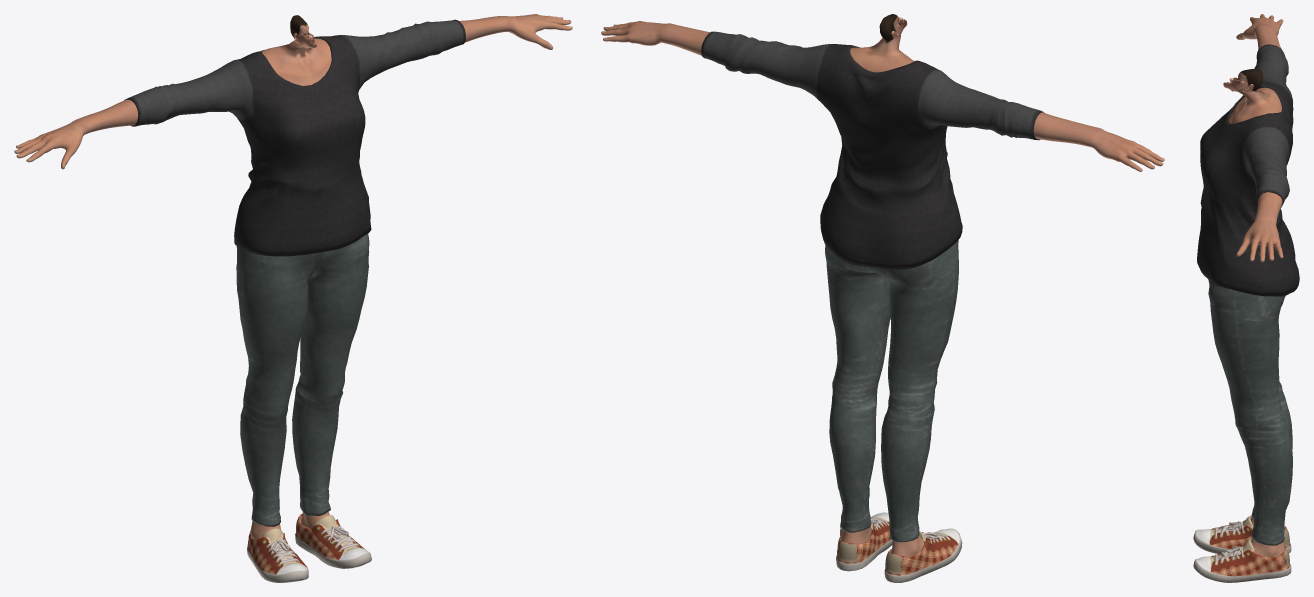
File: Self Female.obj
3 renders of one model, left to right at view 1: azimuth 30°, elevation 25°; view 2: azimuth 150°, elevation 25°; view 3: azimuth 270°, elevation 25°, orthographic. The views are drawn at different scales.
Parts seen in each view (by area): view 1: Tops, Bottoms, Body, Shoes; view 2: Tops, Bottoms, Body, Shoes; view 3: Tops, Bottoms, Body, Shoes.
Boxes of the visible parts, box(x1,y1,x2,y2) form: Tops: box(124, 19, 465, 256); Bottoms: box(236, 233, 369, 526); Body: box(14, 14, 572, 538); Shoes: box(247, 513, 371, 582); Tops: box(701, 31, 1043, 269); Bottoms: box(825, 240, 958, 542); Body: box(601, 14, 1164, 556); Shoes: box(836, 512, 962, 582); Tops: box(1197, 44, 1299, 296); Bottoms: box(1208, 279, 1292, 545); Body: box(1223, 14, 1285, 557); Shoes: box(1193, 515, 1291, 582).
Bounding box in the file's own units: 170 × 158 × 31.05.
Materials: 1 (1 with a texture image).
